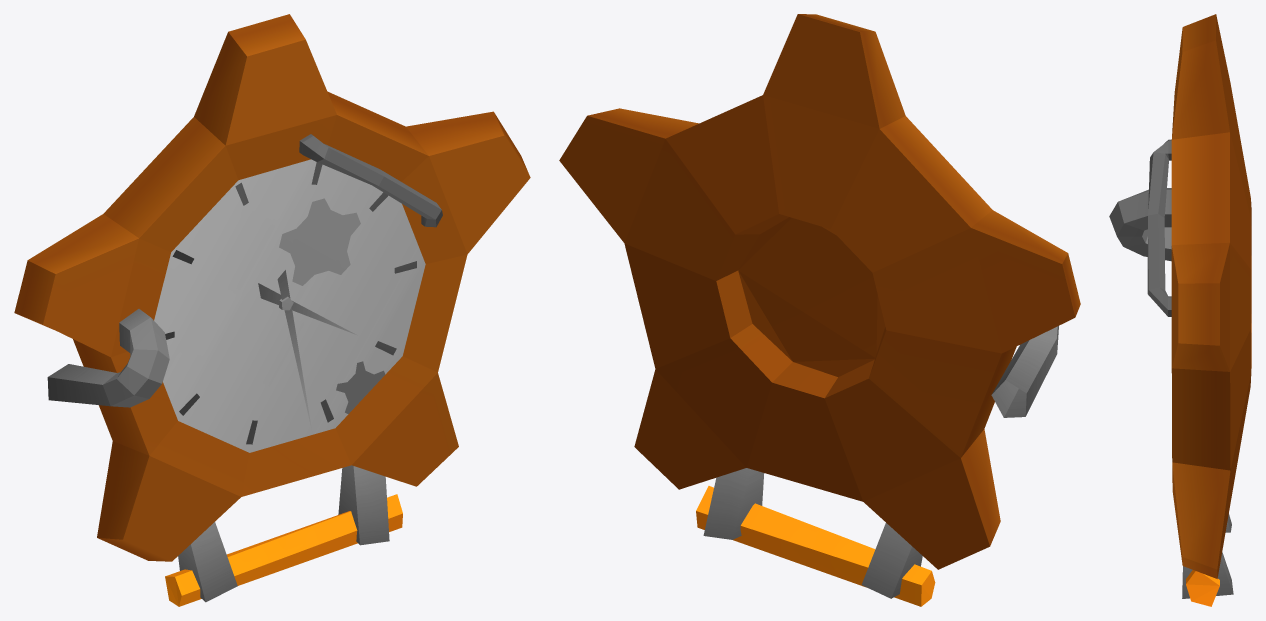
File: obj_clock.gltf
The picture shows the model from 3 angles, left to right: view 1: azimuth 30°, elevation 25°; view 2: azimuth 150°, elevation 25°; view 3: azimuth 270°, elevation 25°; orthographic projection. The views are drawn at different scales.
Parts seen in each view (by area): view 1: obj_clock; view 2: obj_clock; view 3: obj_clock.
Boxes of the visible parts, <box> form: obj_clock: <box>14,14,530,606</box>; obj_clock: <box>559,14,1080,606</box>; obj_clock: <box>1109,14,1251,606</box>.
Size of what is drawn, in the model's own units: 3.43 by 3.59 by 0.8572.
Materials: 1 (1 with a texture image).
